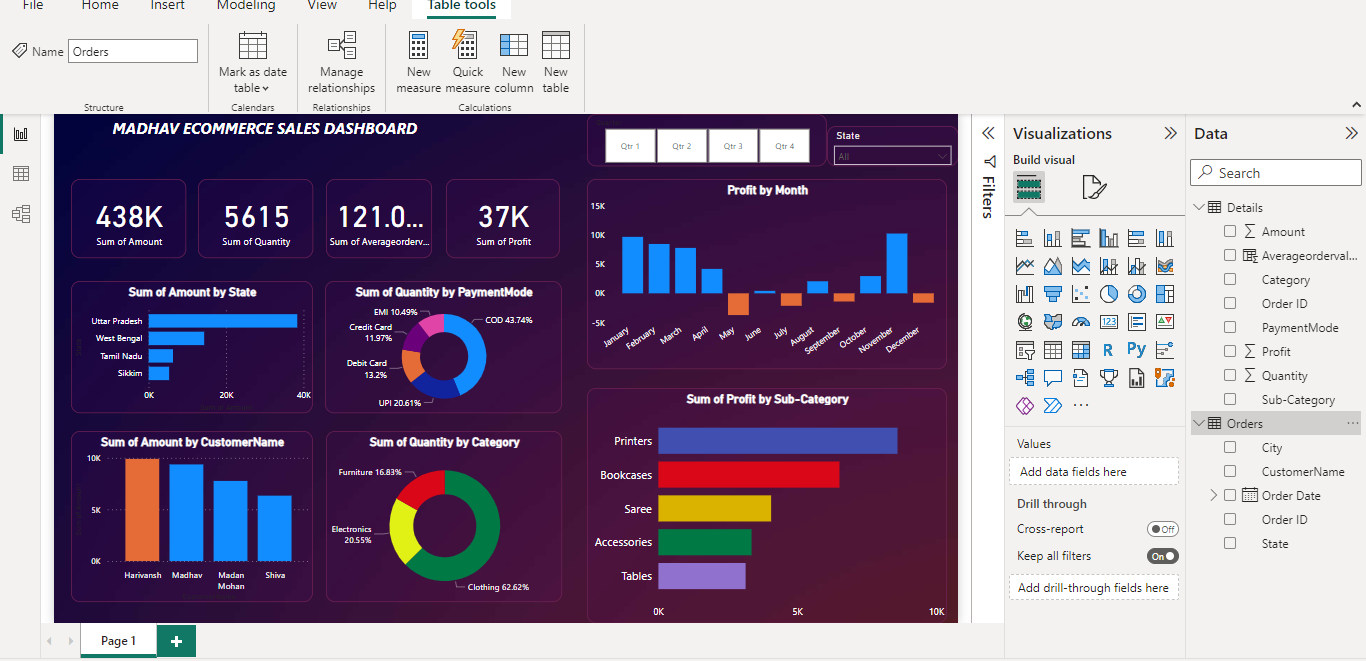

Layout of this report page (visuals, bound fields, positions):
{"tool":"powerbi","page":{"name":"Page 1","canvas":[1280,720],"ordinal":0},"visuals":[{"type":"textbox","box":[72.1,0,323.9,70.7],"z":0},{"type":"clusteredColumnChart","title":" Profit by Month","fields":{"Category":["Orders.Order Date.Variation.Date Hierarchy.Month"],"Y":["Details.Profit"]},"box":[770.9,97.6,509.2,268.8],"z":1000},{"type":"barChart","fields":{"Category":["Details.Sub-Category"],"Y":["Details.Profit"]},"box":[753.9,384.8,520.6,323.9],"z":2000},{"type":"donutChart","fields":{"Category":["Details.Category"],"Y":["Details.Quantity"]},"box":[438.5,478.1,304.1,241.9],"z":3000},{"type":"donutChart","title":"Sum of Quantity by PaymentMode ","fields":{"Category":["Details.PaymentMode"],"Y":["Details.Quantity"],"Series":["Details.PaymentMode"]},"box":[407.4,291.4,335.2,186.7],"z":4000},{"type":"card","fields":{"Values":["Details.Amount"]},"box":[49.5,97.6,323.9,186.7],"z":5000},{"type":"card","fields":{"Values":["Details.Quantity"]},"box":[49.5,305.5,323.9,186.7],"z":6000},{"type":"card","fields":{"Values":["Details.Profit"]},"box":[49.5,505,323.9,186.7],"z":7000},{"type":"card","fields":{"Values":["Details.Averageordervalue"]},"box":[396.1,82,323.9,186.7],"z":8000}]}

Visuals, with their boxes on the page's 1280x720 design canvas (x1, y1, x2, y2). These are canvas units, not pixel positions in the 1366x661 screenshot, which may show the page scaled, cropped or inside an application window:
textbox: [x1=72, y1=0, x2=396, y2=71]
" Profit by Month" clusteredColumnChart: [x1=771, y1=98, x2=1280, y2=366]
barChart - Details.Sub-Category x Details.Profit: [x1=754, y1=385, x2=1274, y2=709]
donutChart - Details.Category x Details.Quantity: [x1=438, y1=478, x2=743, y2=720]
"Sum of Quantity by PaymentMode " donutChart: [x1=407, y1=291, x2=743, y2=478]
card - Details.Amount: [x1=50, y1=98, x2=373, y2=284]
card - Details.Quantity: [x1=50, y1=306, x2=373, y2=492]
card - Details.Profit: [x1=50, y1=505, x2=373, y2=692]
card - Details.Averageordervalue: [x1=396, y1=82, x2=720, y2=269]
